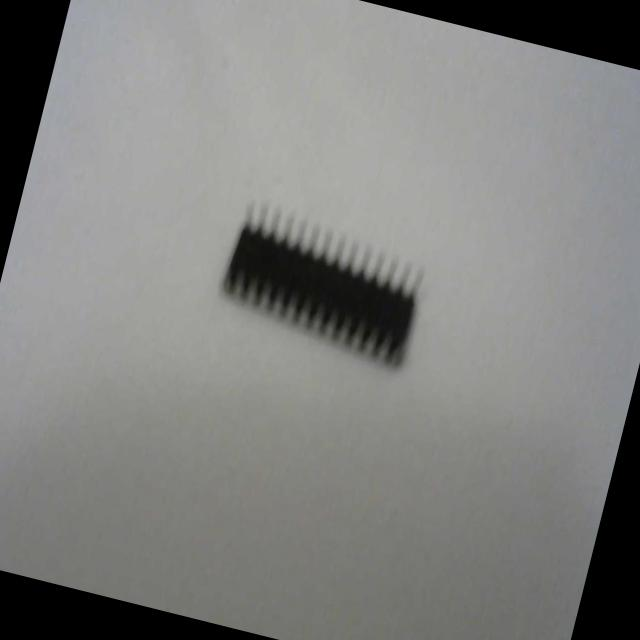atmega: (207, 190, 438, 376)
